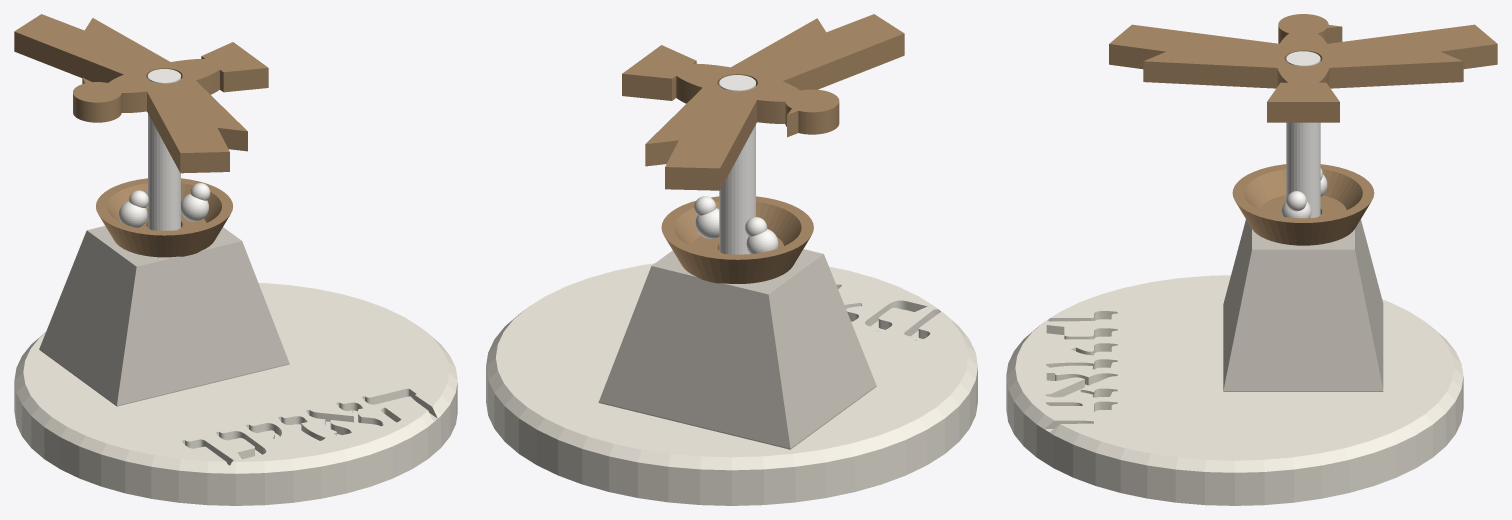
Rendered from haazinu.glb.
3 views of the same model, side by side, from view 1: azimuth 30°, elevation 25°; view 2: azimuth 150°, elevation 25°; view 3: azimuth 270°, elevation 25° (orthographic). The views are drawn at different scales.
Visible parts, largest first — view 1: stage, crag, eagle, nest, post, chicks; view 2: stage, crag, eagle, nest, post, chicks; view 3: stage, crag, eagle, nest, post, chicks.
Part boxes in pixels (x1,y1,x2,y2): stage: (14, 283, 457, 505); crag: (39, 226, 289, 406); eagle: (14, 14, 268, 173); nest: (96, 178, 233, 257); post: (148, 69, 180, 230); chicks: (118, 183, 210, 227); stage: (486, 263, 977, 505); crag: (598, 249, 876, 449); eagle: (622, 14, 904, 190); nest: (661, 196, 813, 283); post: (719, 75, 755, 254); chicks: (694, 196, 778, 253); stage: (1006, 275, 1463, 505); crag: (1223, 219, 1383, 391); eagle: (1109, 14, 1497, 122); nest: (1232, 164, 1374, 245); post: (1286, 51, 1320, 217); chicks: (1281, 168, 1327, 218).
Size of the model in its own units: 40 by 32 by 43.
